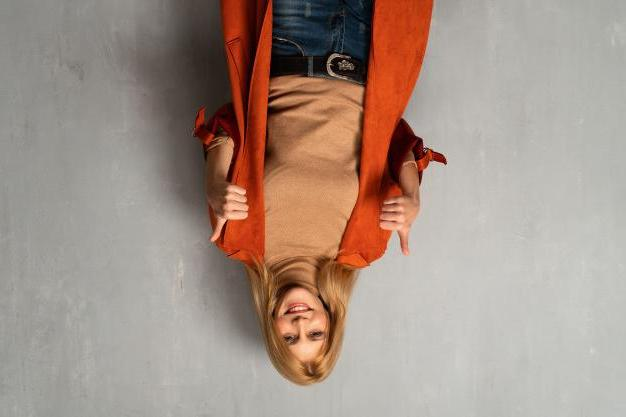thumbsdown: (209, 184, 249, 242), (379, 196, 412, 257)
